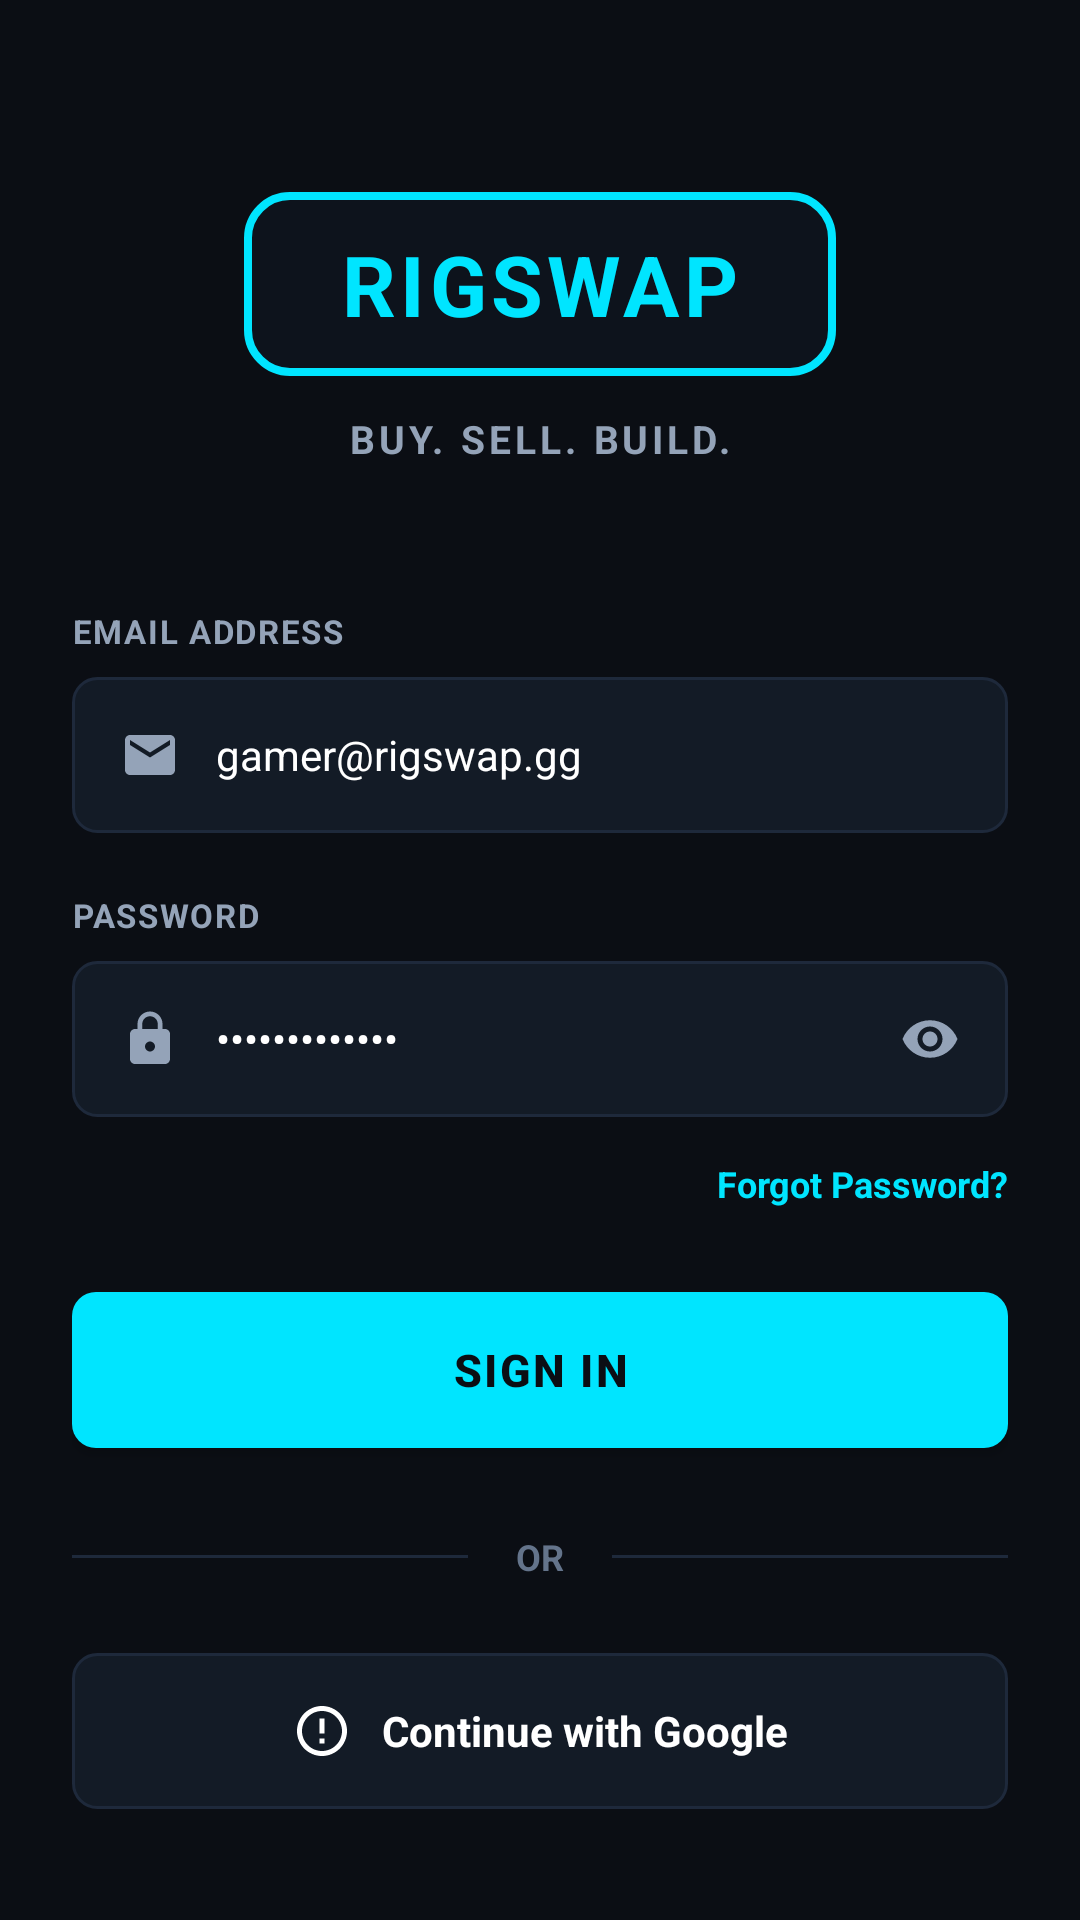

Icons on this 1080px x 1920px Android screen, each with its box as (x1, y1, x2, y2):
eye: (902, 1020, 958, 1058)
lock: (130, 1011, 170, 1064)
